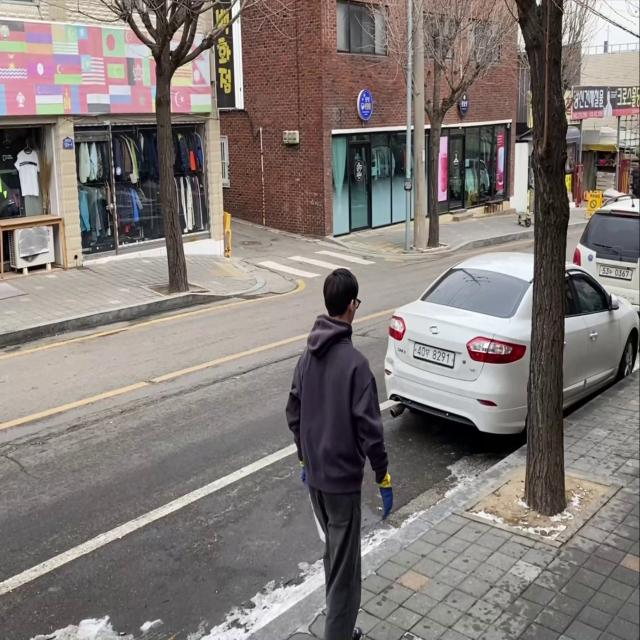gloved_hand: (378, 484, 396, 525), (298, 465, 309, 488)
